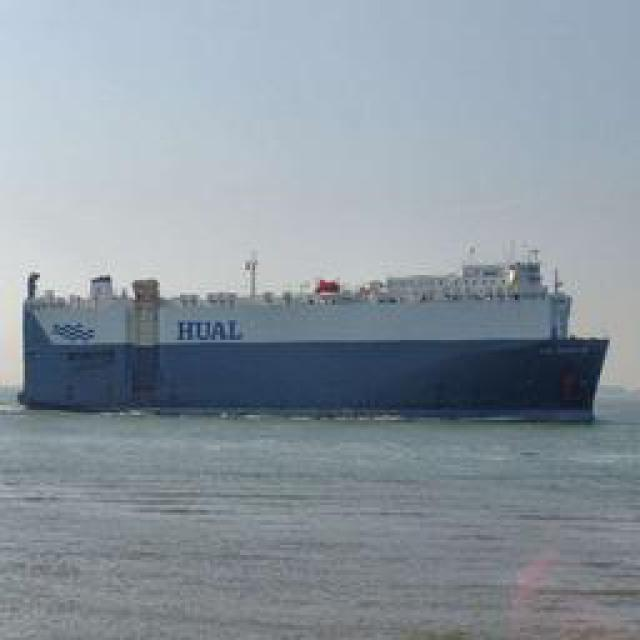Ship: (21, 235, 614, 420)
